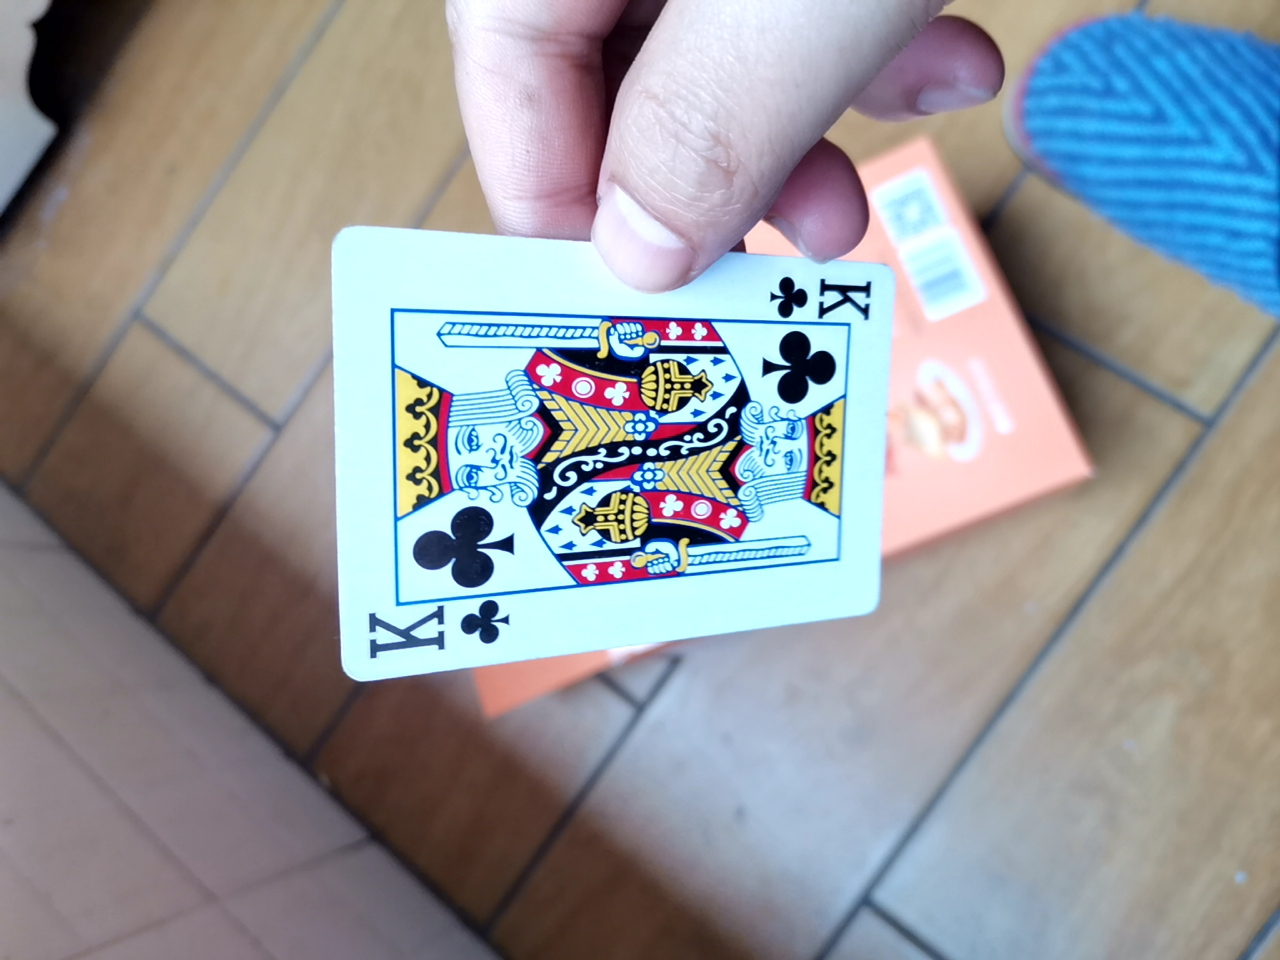mh k: (317, 208, 899, 689)
